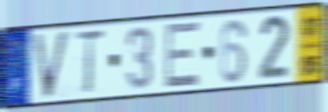2: (257, 12, 293, 84)
3: (125, 24, 156, 94)
6: (219, 16, 249, 86)
E: (163, 19, 202, 91)
T: (72, 27, 107, 97)
V: (30, 28, 73, 102)
